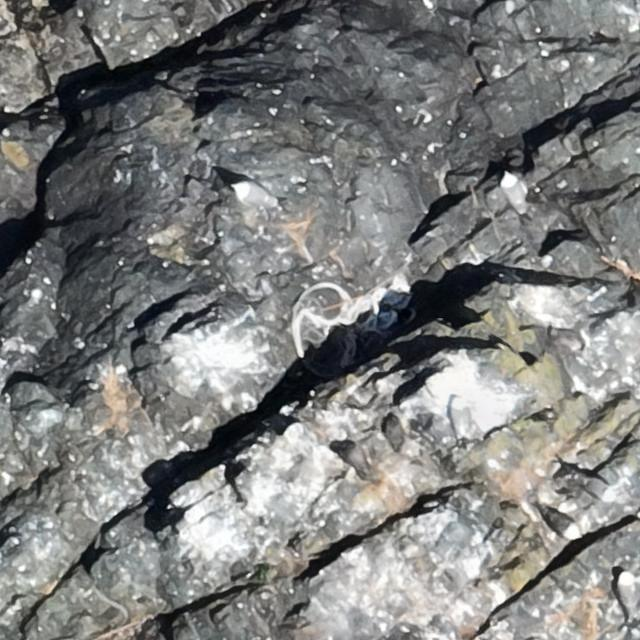umineko: (503, 172, 531, 220), (544, 506, 584, 539), (232, 182, 280, 208), (617, 569, 639, 625), (451, 395, 471, 441), (581, 477, 610, 498)
